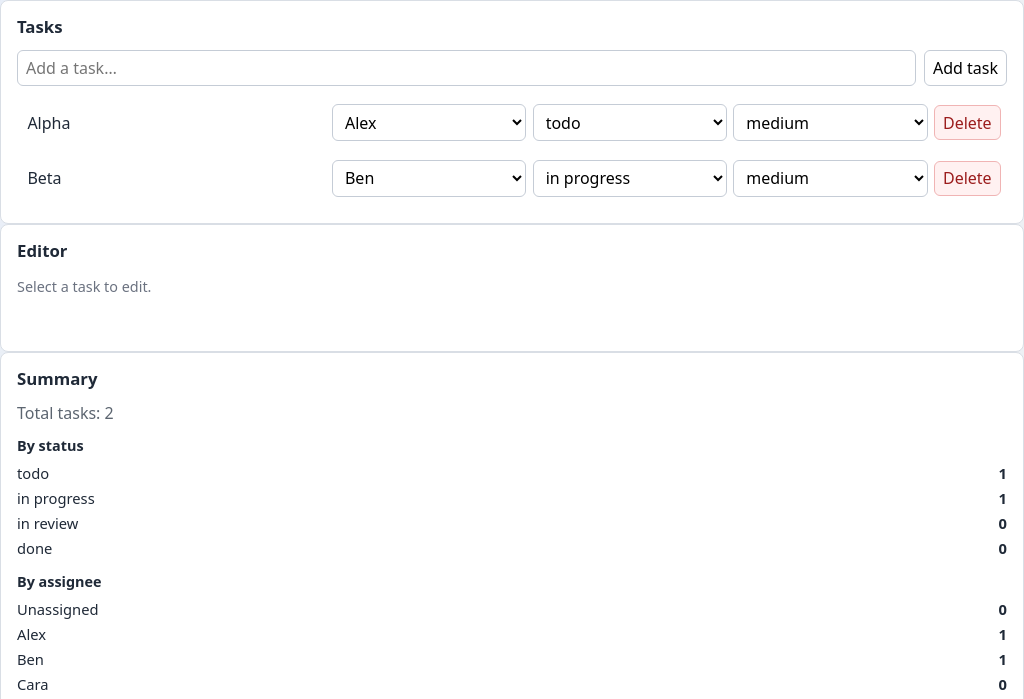
Scenario: Board integration › adds and deletes tasks across panels
The image size is (1024, 699).
Type "Gamma" into the field named "New task title" at [466, 68], box [17, 50, 916, 86]
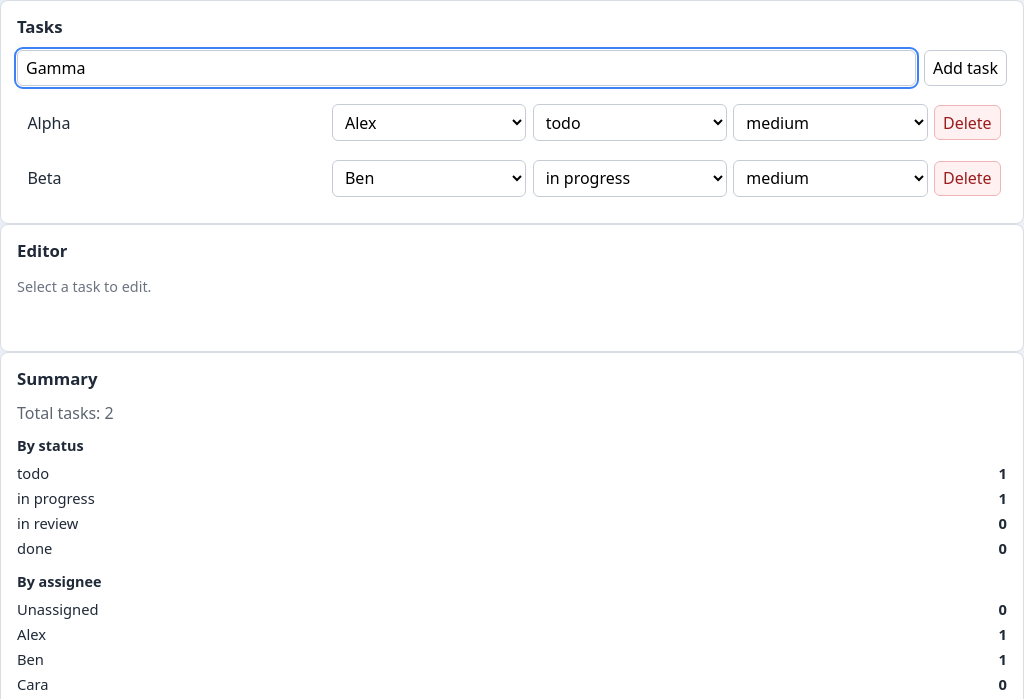
Click the button "Add task" at [966, 68], box [924, 50, 1007, 86]
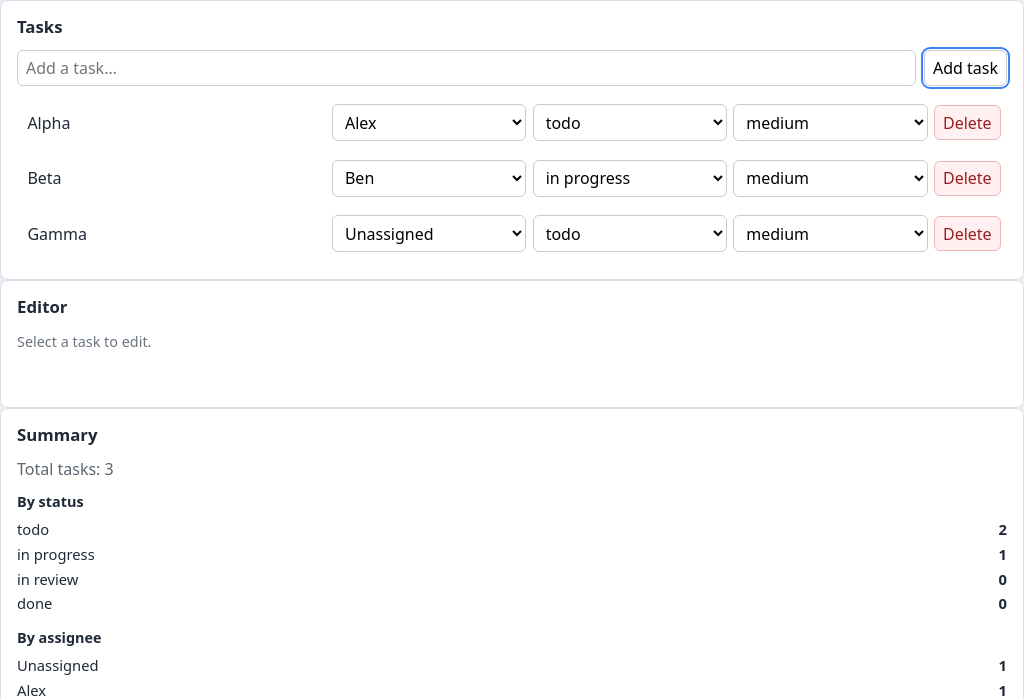
expect the button "Gamma" is shown: met
Click the button "Gamma" at [57, 234], box [23, 219, 326, 249]
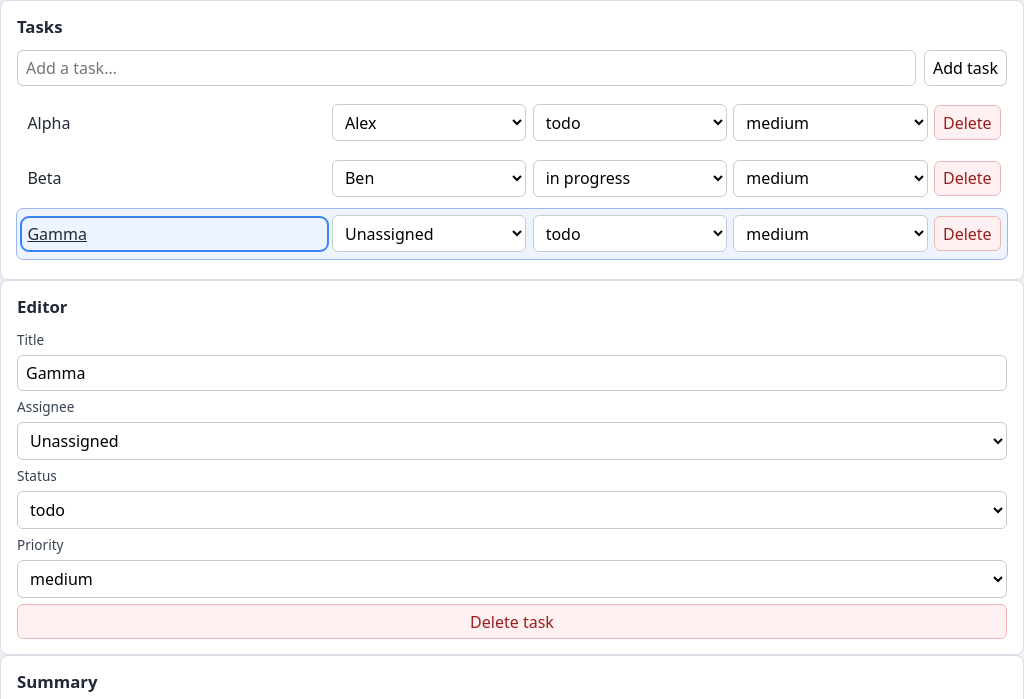
Click the button "Delete task" at [512, 622], box [17, 604, 1007, 639]
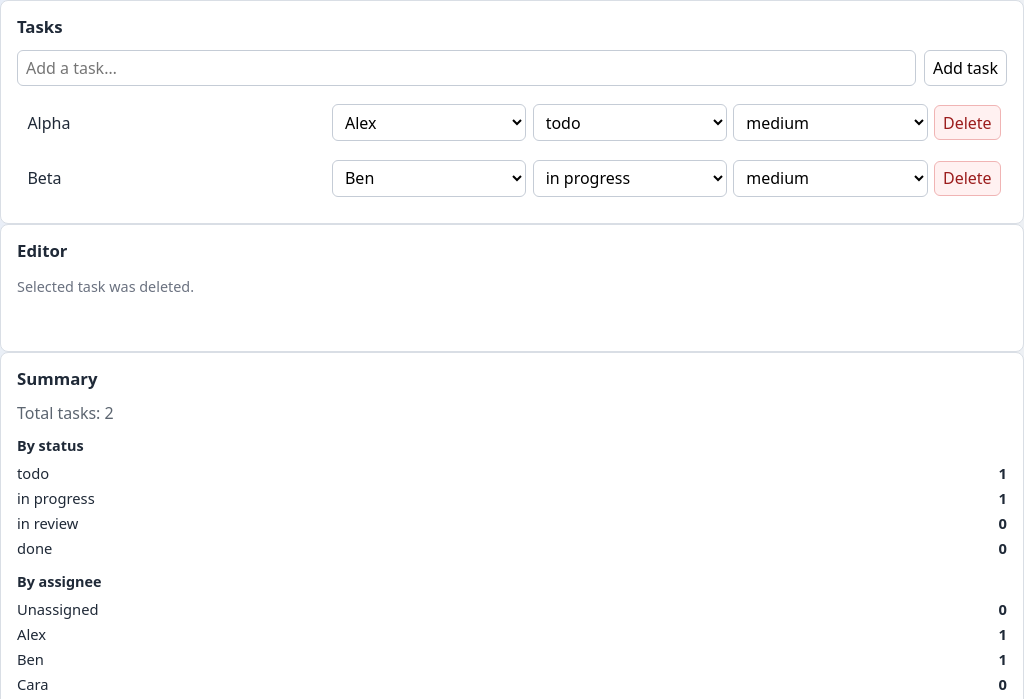
expect the button "Gamma" is not shown: met
expect the text "Selected task was deleted." is shown: met, box [17, 277, 194, 296]
